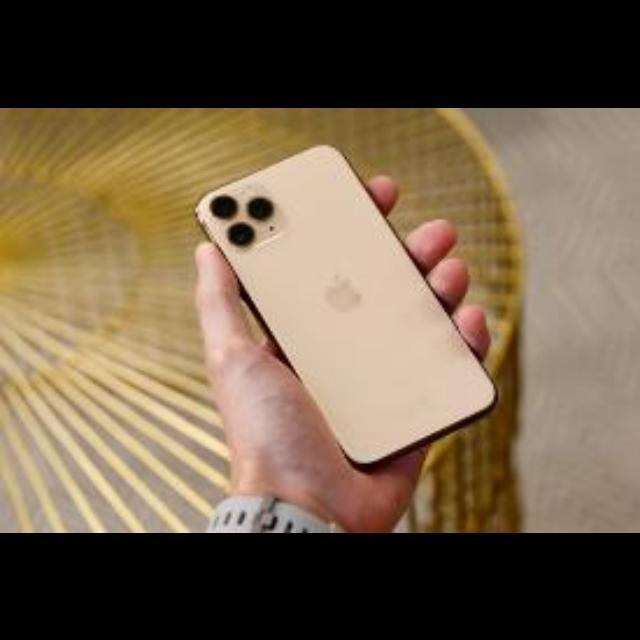phone: (179, 133, 503, 477)
